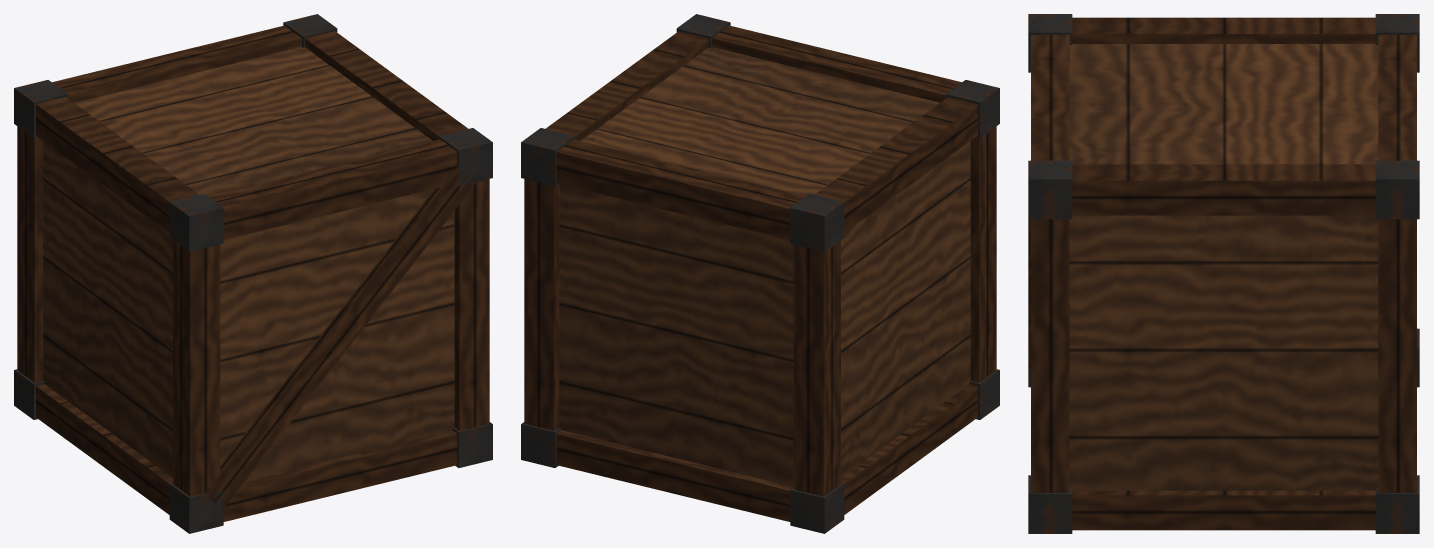
File: crate.glb
3 views of the same model, side by side, from view 1: azimuth 30°, elevation 25°; view 2: azimuth 150°, elevation 25°; view 3: azimuth 270°, elevation 25° (orthographic). The views are drawn at different scales.
Visible parts, largest first — view 1: crate; view 2: crate; view 3: crate.
Boxes of the visible parts, x1,y1,x2,y2 form: crate: (14, 14, 492, 533); crate: (521, 14, 999, 533); crate: (1028, 14, 1419, 533).
Size of the model in its own units: 0.71 by 0.71 by 0.71.
3 materials, 3 textured.
